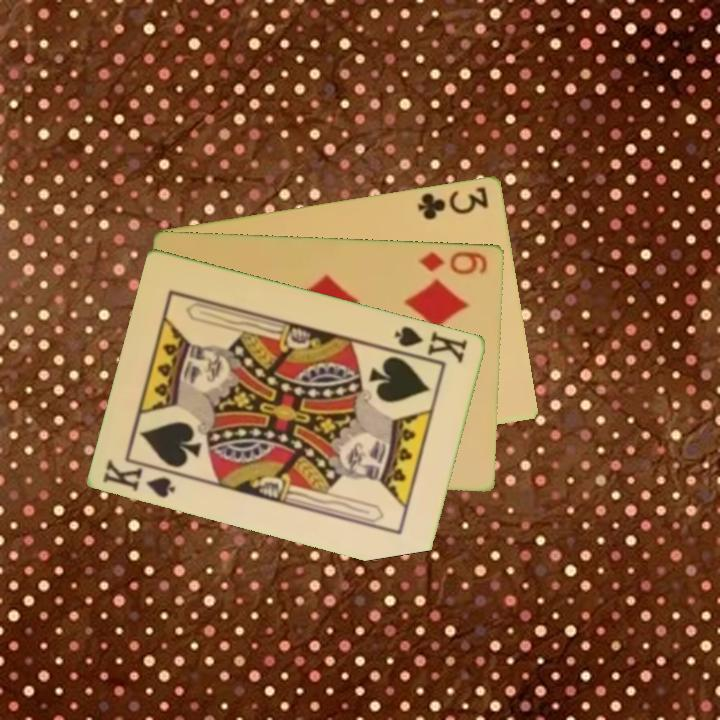3c: (414, 183, 492, 222)
6d: (416, 247, 491, 277)
Ks: (99, 456, 186, 501), (389, 322, 471, 366)
